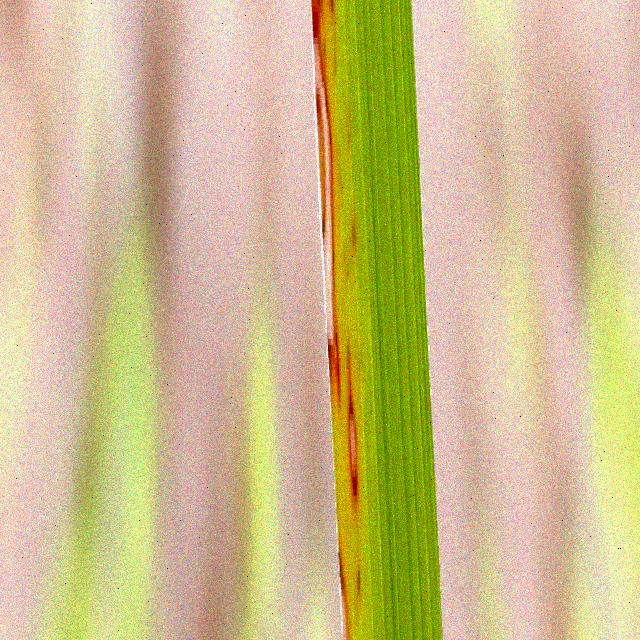LEAF BLAST: (312, 1, 340, 417), (347, 337, 357, 502), (338, 552, 348, 640)
